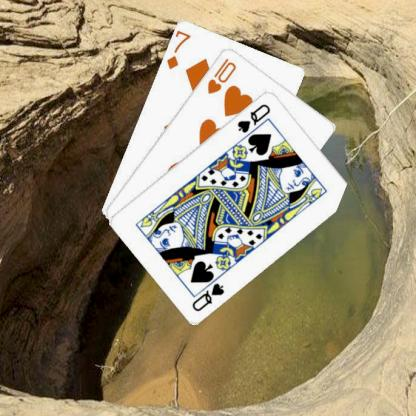10H: (204, 55, 238, 95)
7D: (164, 28, 192, 70)
QS: (234, 101, 272, 134), (188, 280, 226, 312)
